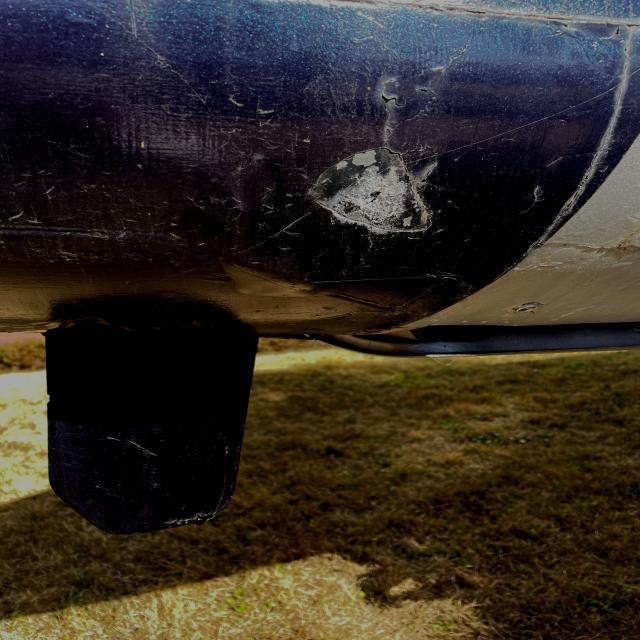crack: (372, 82, 455, 113)
dent: (302, 141, 453, 236)
